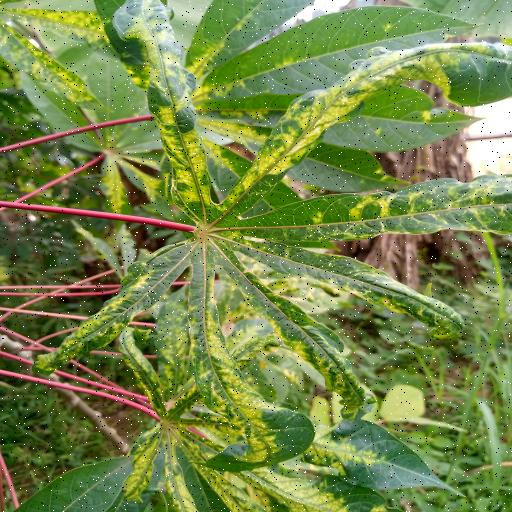Cassava_Mosaic: (46, 0, 512, 471), (123, 0, 512, 207), (24, 327, 458, 512)
